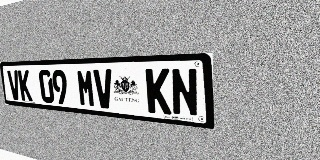0: (38, 70, 55, 104)
9: (51, 70, 69, 105)
K: (145, 68, 171, 115), (18, 70, 33, 101)
M: (76, 69, 96, 107)
N: (170, 68, 199, 117)
V: (93, 69, 114, 109), (7, 70, 21, 100)
